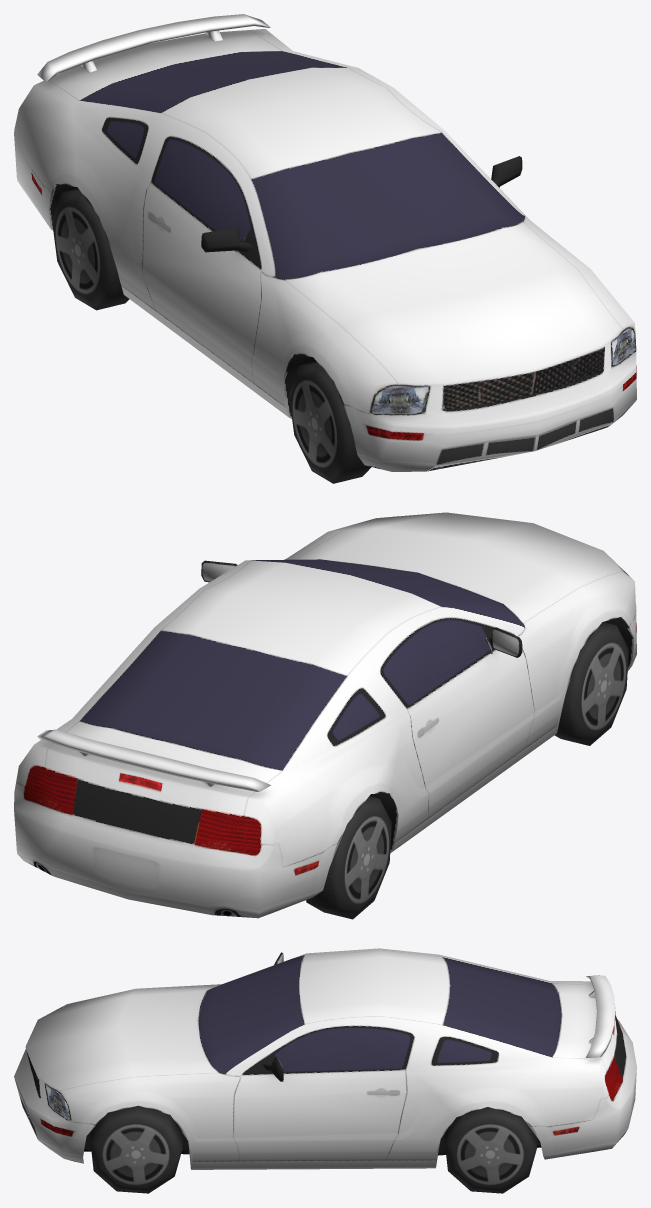
3 views of the same model, one above another, from view 1: azimuth 30°, elevation 25°; view 2: azimuth 150°, elevation 25°; view 3: azimuth 270°, elevation 25° (orthographic). The views are drawn at different scales.
Parts seen in each view (by area): view 1: Sports_Car_Fin; view 2: Sports_Car_Fin; view 3: Sports_Car_Fin.
Boxes of the visible parts, <box> form: Sports_Car_Fin: <box>14,14,636,483</box>; Sports_Car_Fin: <box>14,512,636,919</box>; Sports_Car_Fin: <box>14,948,636,1193</box>.
Bounding box in the file's own units: 200 × 131 × 450.
1 material, 1 textured.
